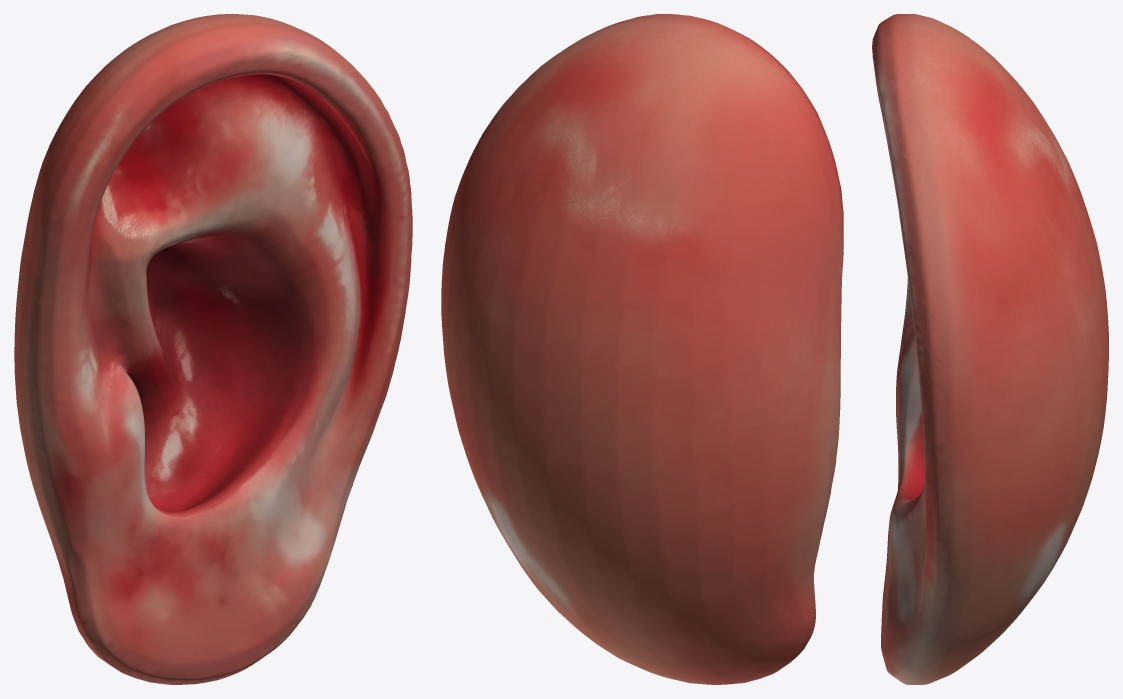
Rendered from vet_v2_path_ear-infection.glb.
The picture shows the model from 3 angles, left to right: view 1: azimuth 30°, elevation 25°; view 2: azimuth 150°, elevation 25°; view 3: azimuth 270°, elevation 25°; orthographic projection. The views are drawn at different scales.
Visible parts, largest first — view 1: model; view 2: model; view 3: model.
Part boxes in pixels (bbox=[...]): model: bbox=[14, 14, 412, 684]; model: bbox=[441, 14, 843, 684]; model: bbox=[872, 14, 1108, 684].
Size of the model in its own units: 1.16 by 1.9 by 0.636.
1 material, 1 textured.
